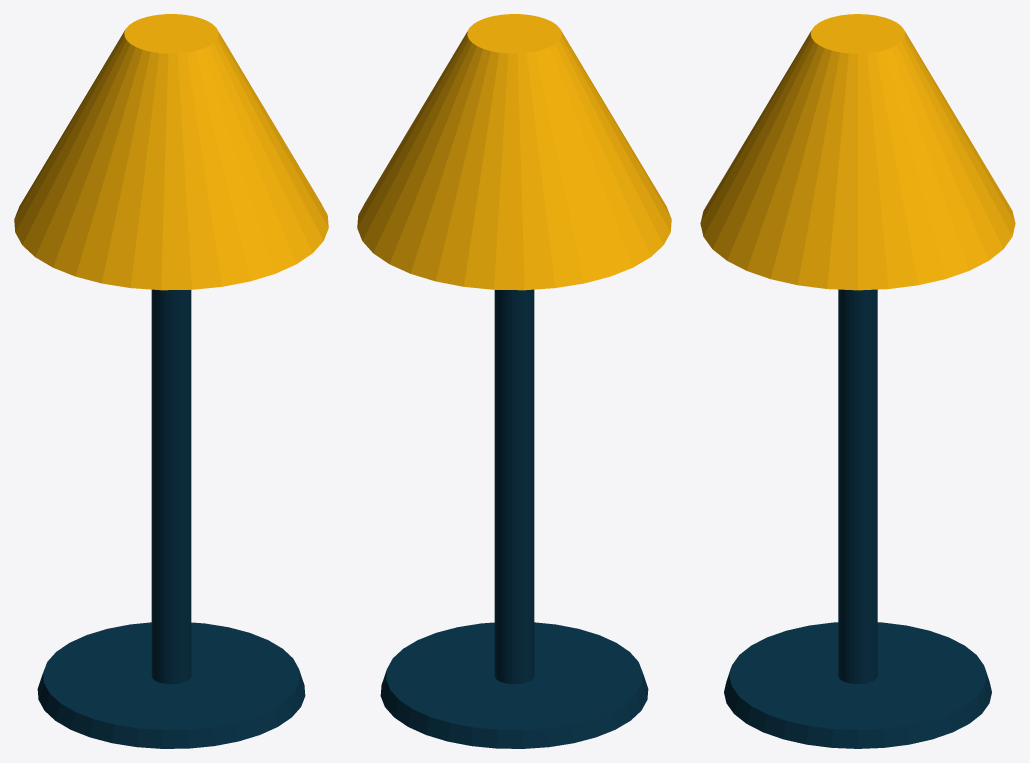
The model's file is LAMPARA.glb.
3 views of the same model, side by side, from view 1: azimuth 30°, elevation 25°; view 2: azimuth 150°, elevation 25°; view 3: azimuth 270°, elevation 25° (orthographic).
Visible parts, largest first — view 1: LAMPARA; view 2: LAMPARA; view 3: LAMPARA.
Boxes of the visible parts, x1,y1,x2,y2 form: LAMPARA: (14,14,328,748); LAMPARA: (357,14,671,748); LAMPARA: (700,14,1015,748).
Size of the model in its own units: 1.73 by 4 by 1.73.
Materials: 1 (1 with a texture image).
